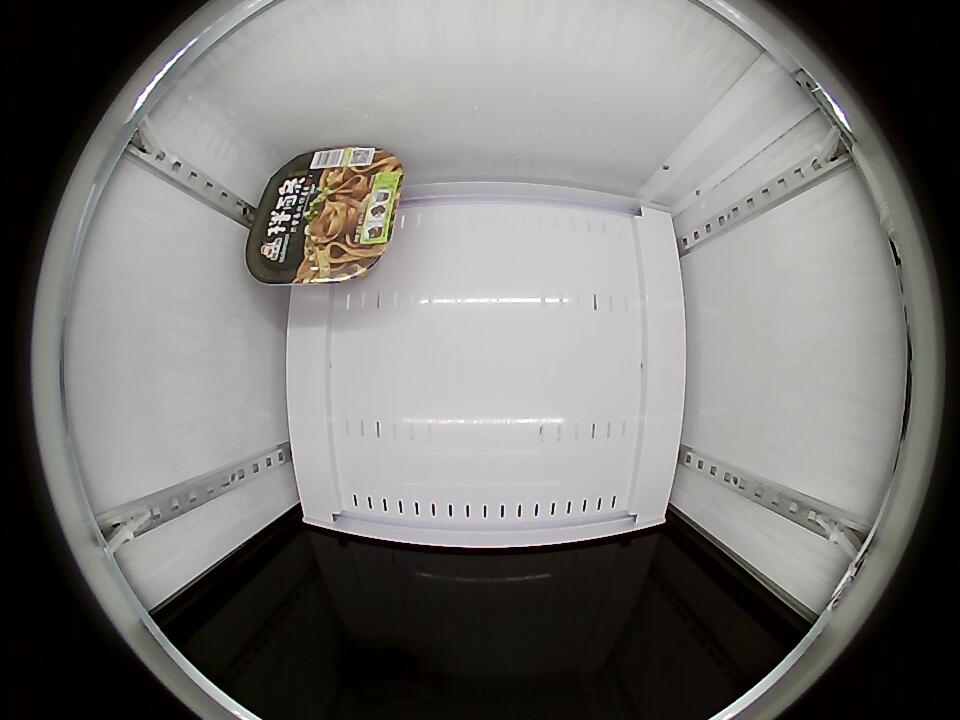gudasao: (246, 146, 405, 286)
